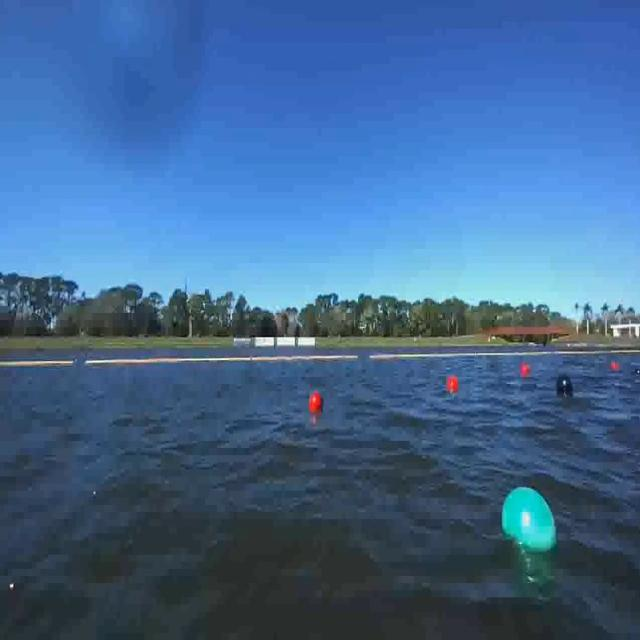black-buoy: (556, 371, 574, 395)
green-buoy: (502, 487, 558, 556)
red-buoy: (308, 394, 321, 415), (446, 374, 458, 392), (448, 377, 460, 395), (521, 362, 531, 377), (610, 360, 618, 371)
